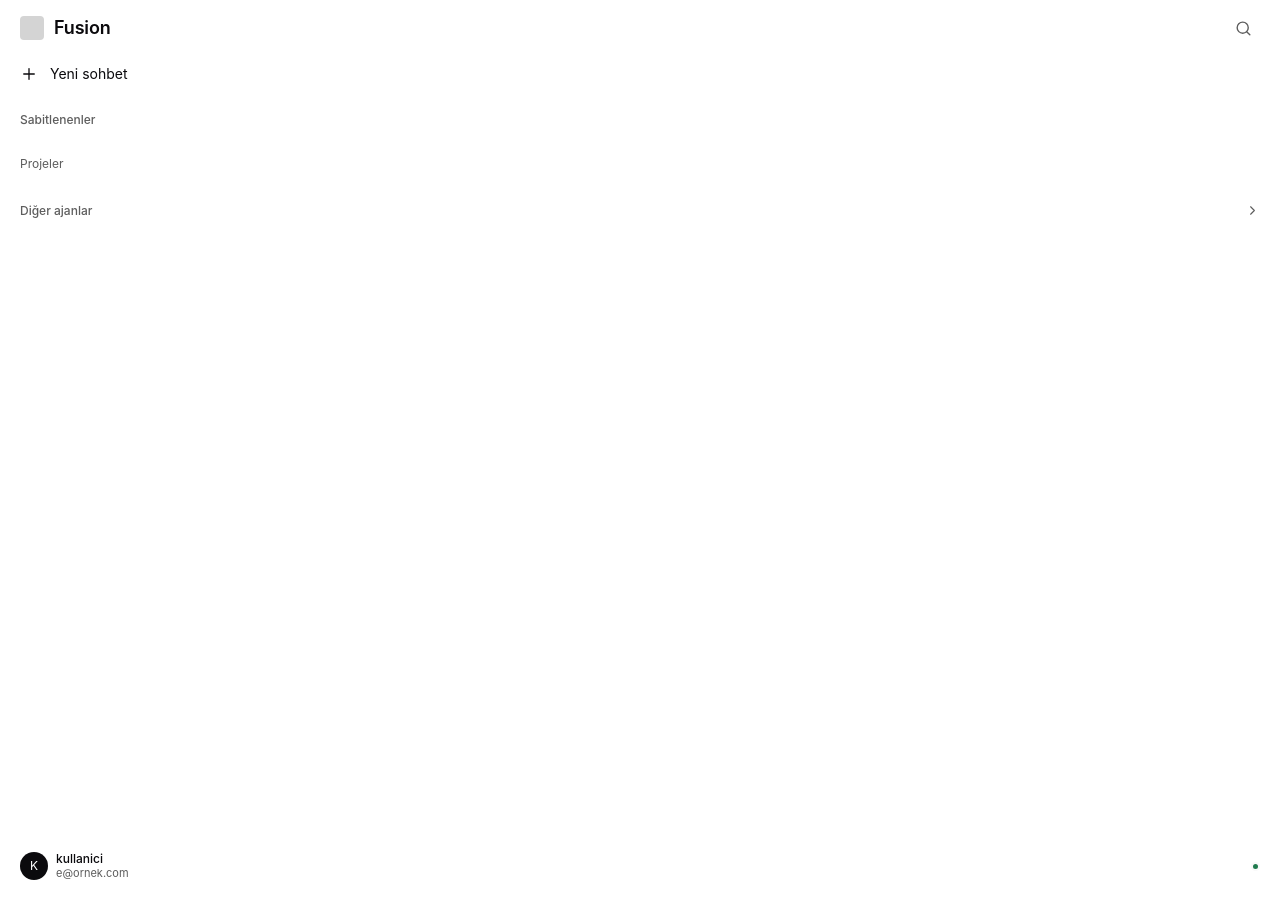
Sidebar › çıkış yap menüden bildirilir ve menü kapanır
Click the button with aria-label "hesap menüsü" at (79, 858), box [12,844,1268,888]
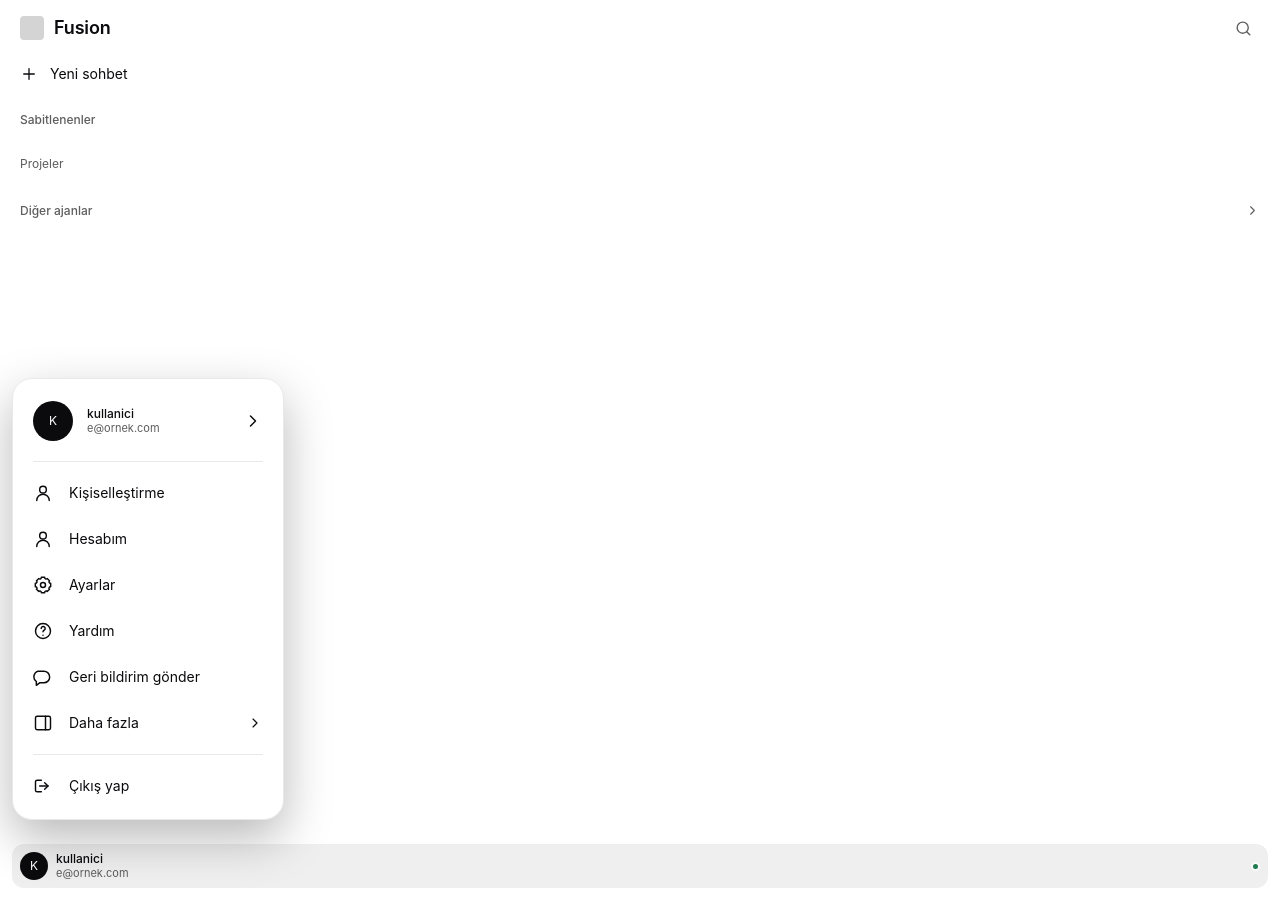
Click the menu item "Çıkış yap" at (148, 786), box [23,763,273,809]
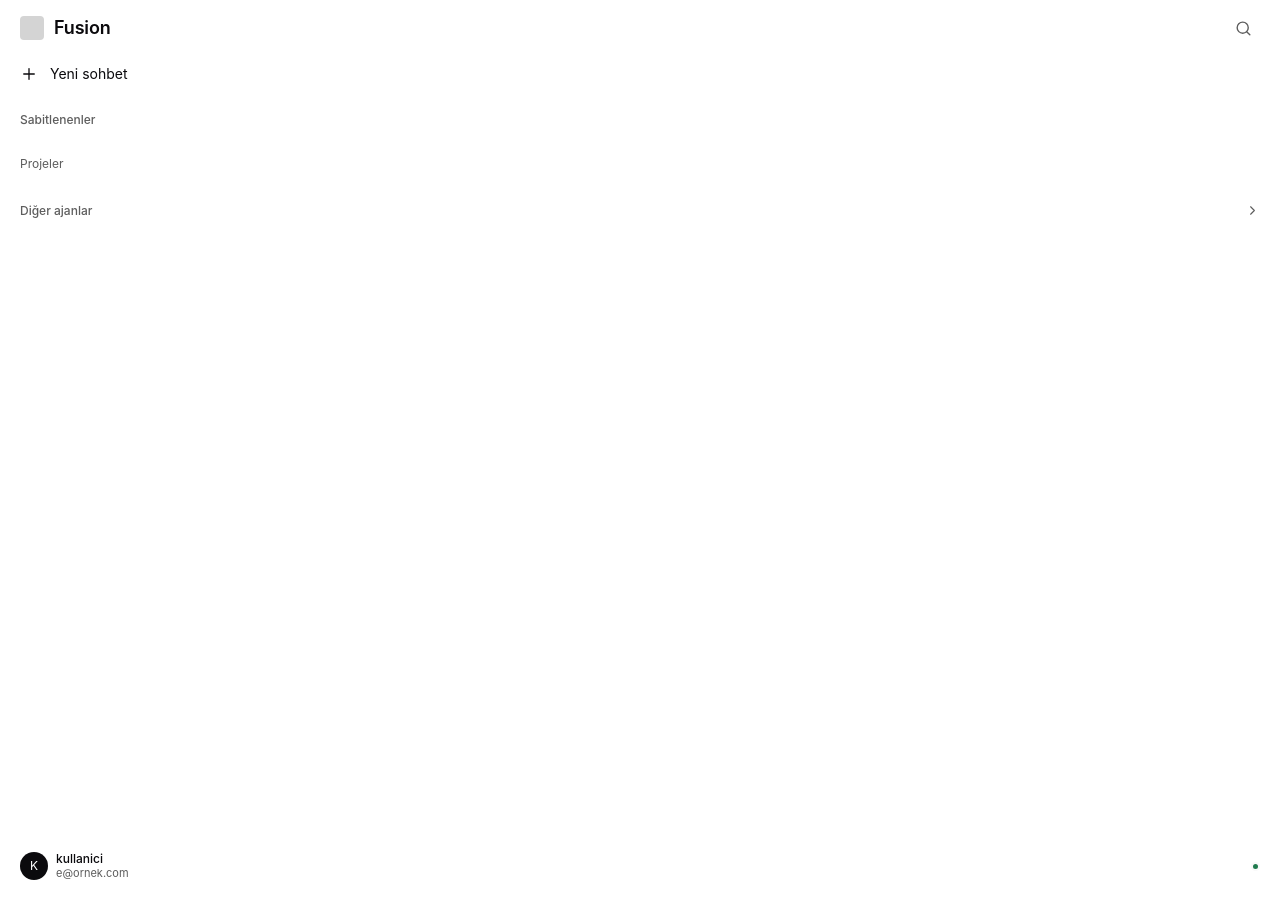
Expected: the menu is gone
